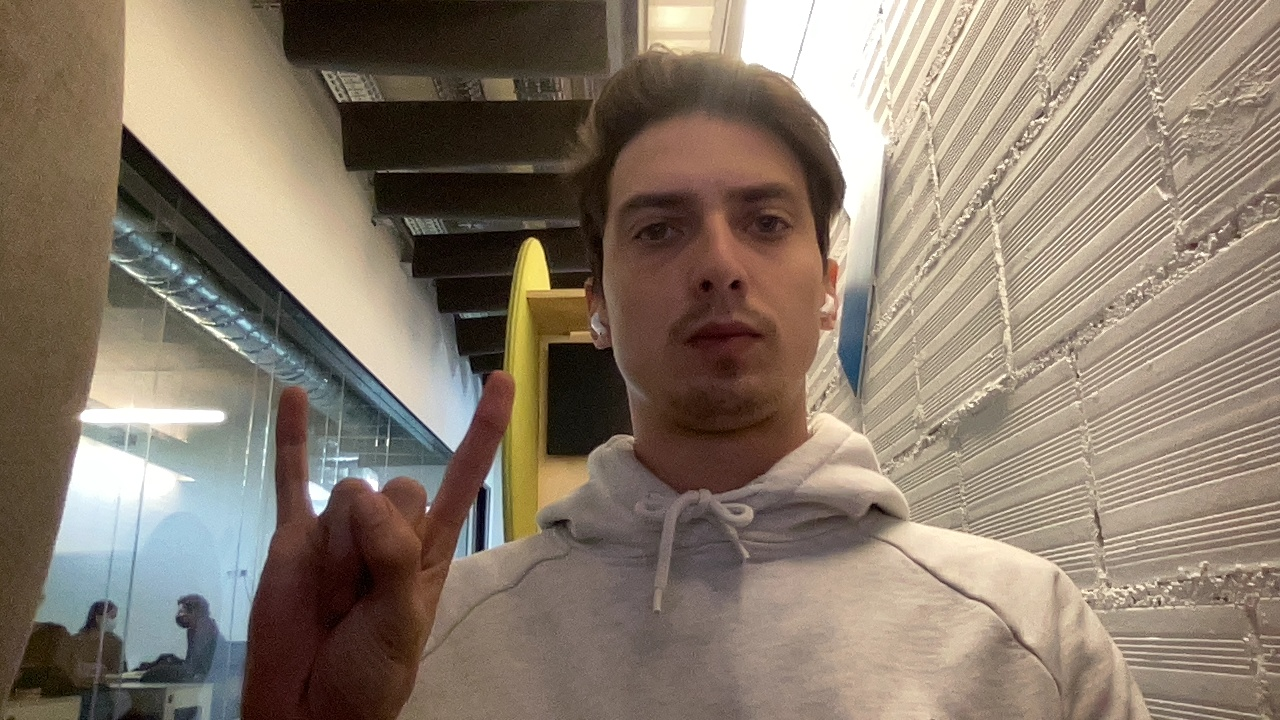iloveyou: (221, 356, 526, 703)
